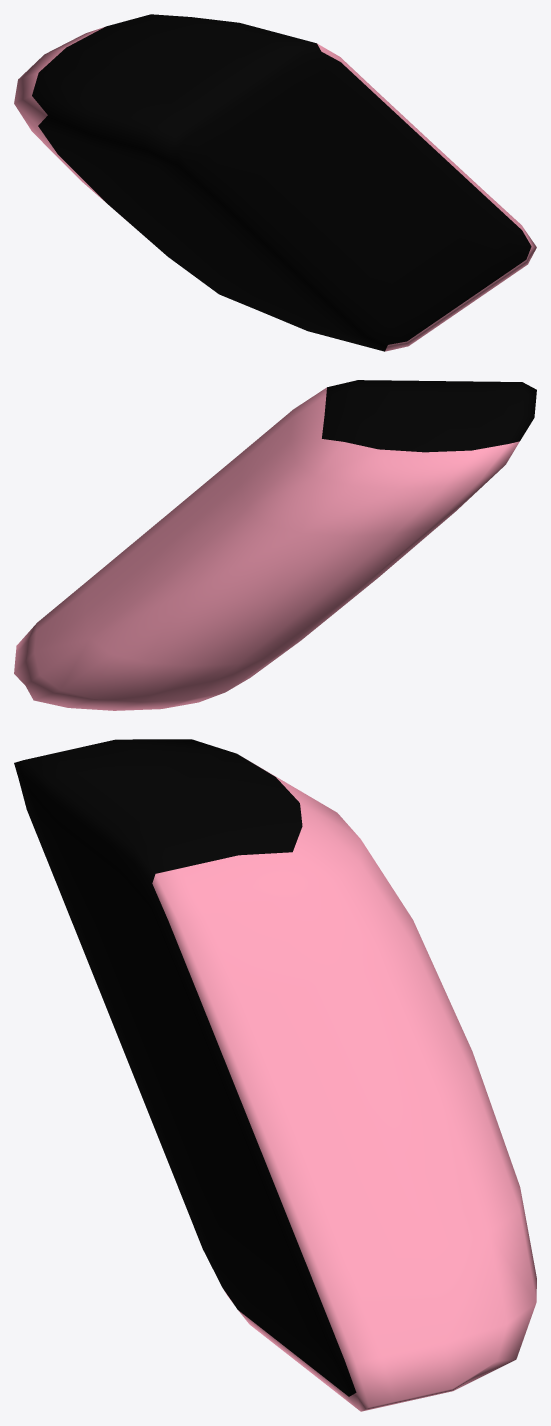
3 renders of one model, top to bottom at view 1: azimuth 30°, elevation 25°; view 2: azimuth 150°, elevation 25°; view 3: azimuth 270°, elevation 25°, orthographic. The views are drawn at different scales.
Visible parts, largest first — view 1: Box1230; view 2: Box1230; view 3: Box1230.
Part boxes in pixels (bbox=[...]): Box1230: bbox=[14, 14, 536, 351]; Box1230: bbox=[14, 380, 536, 710]; Box1230: bbox=[14, 739, 536, 1411].
Size of the model in its own units: 0.0582 by 0.0357 by 0.0432.
